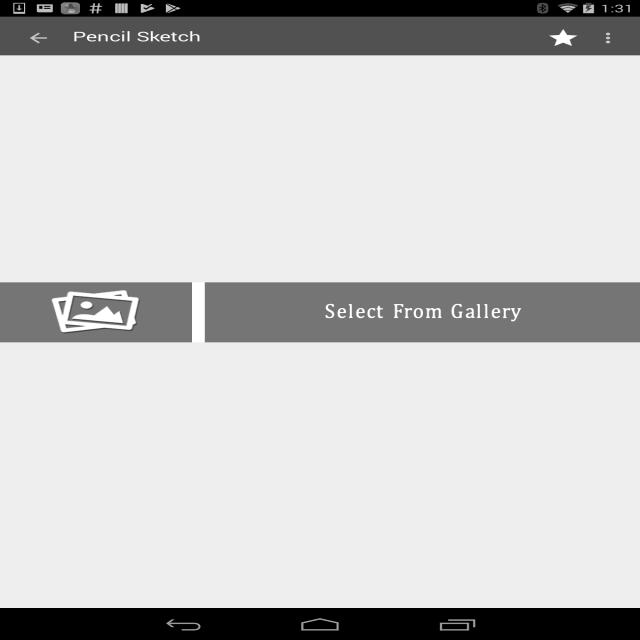Button: (197, 278, 634, 347), (2, 276, 192, 346)
ImageButton: (538, 24, 588, 50), (20, 27, 58, 49), (598, 26, 624, 49)
TextView: (69, 27, 210, 50)
